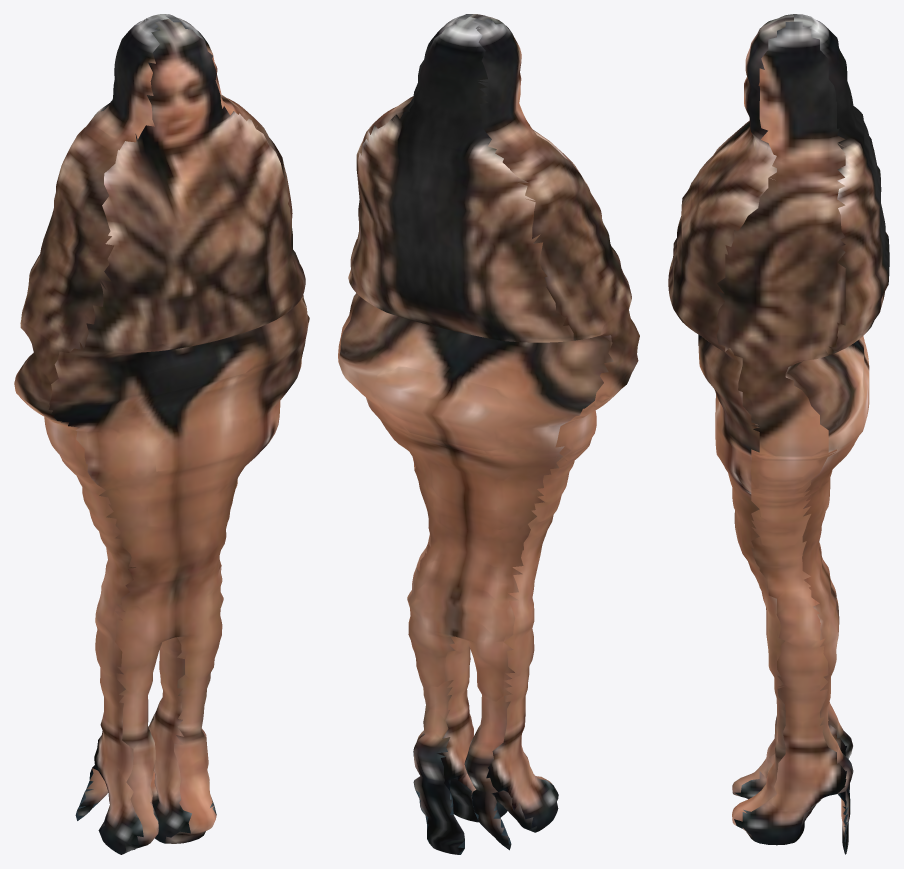
File: sable.glb
3 renders of one model, left to right at view 1: azimuth 30°, elevation 25°; view 2: azimuth 150°, elevation 25°; view 3: azimuth 270°, elevation 25°, orthographic.
Parts seen in each view (by area): view 1: Sable; view 2: Sable; view 3: Sable.
Boxes of the visible parts, x1=… form: Sable: x1=14, y1=14, x2=309, y2=854; Sable: x1=338, y1=14, x2=639, y2=854; Sable: x1=668, y1=14, x2=889, y2=854.
Size of the model in its own units: 0.6028 by 1.73 by 0.4187.
Materials: 1 (1 with a texture image).
